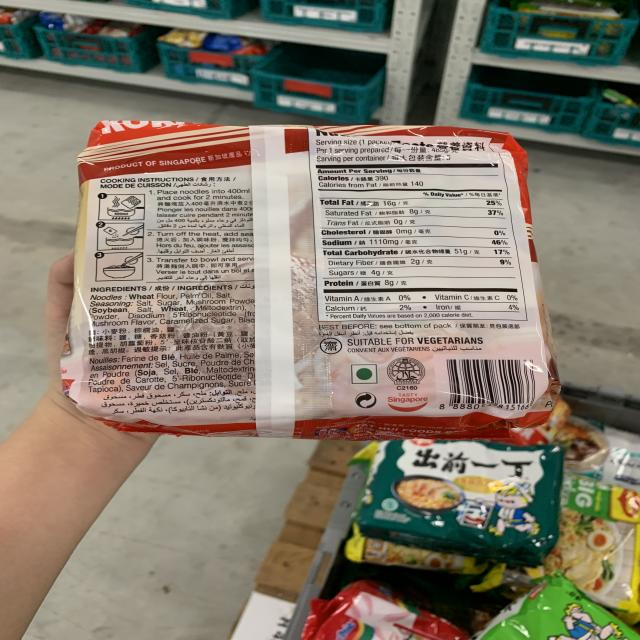object_name: (85, 128, 529, 424)
